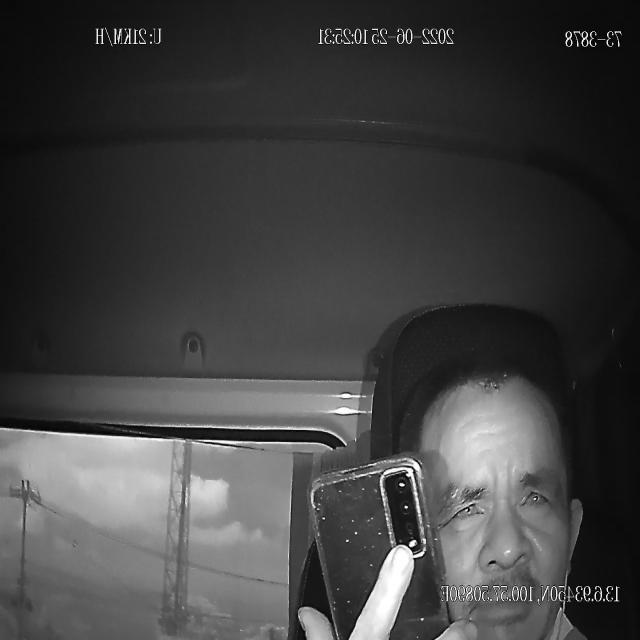phone: (305, 455, 454, 640)
